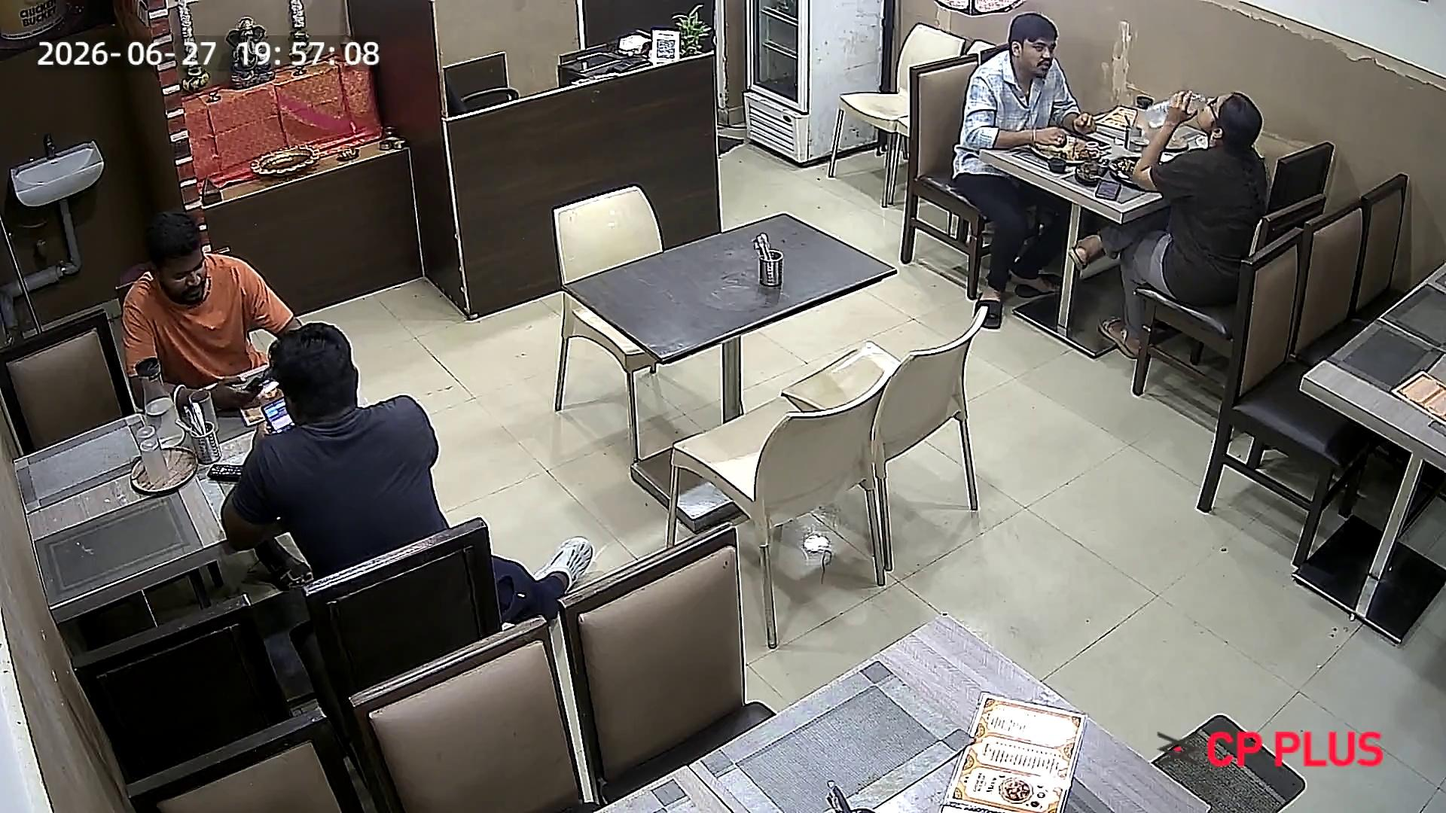clean: (587, 605, 1216, 813), (561, 208, 899, 364)
occupied: (2, 203, 417, 624), (926, 40, 1316, 251)
